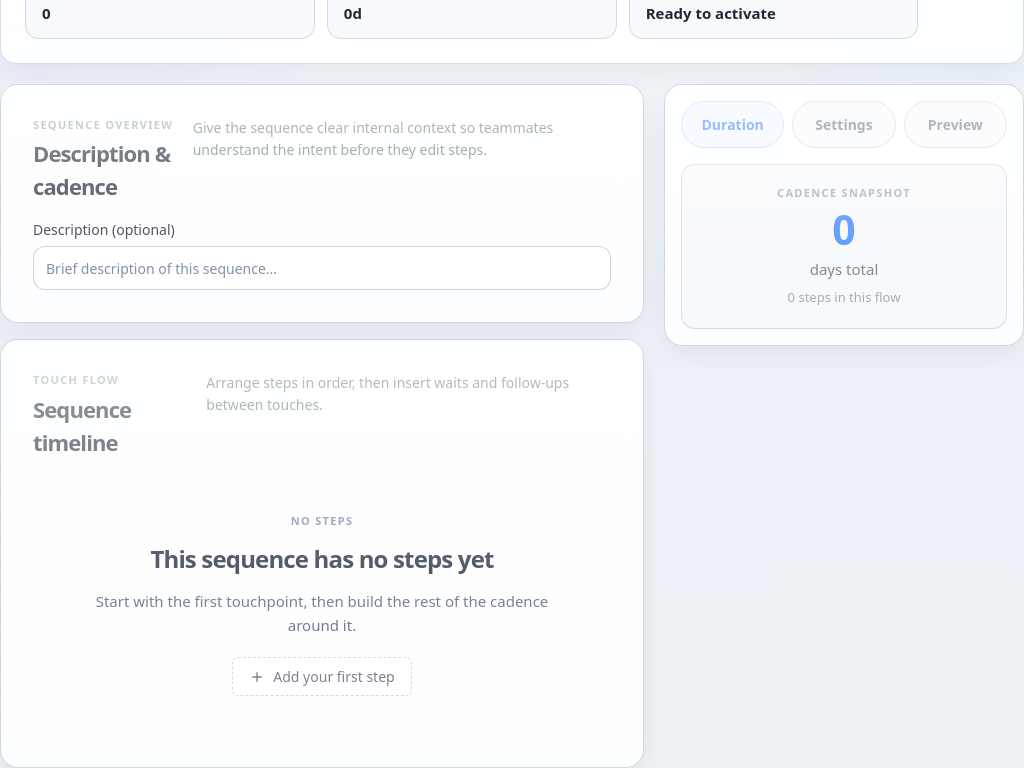
Test: SequenceBuilder › opens step type selector when add step clicked
The image size is (1024, 768).
(page scrolled)
# Click add step button
Click the button with test id "add-first-step-btn" at [322, 677], box [232,657,412,696]
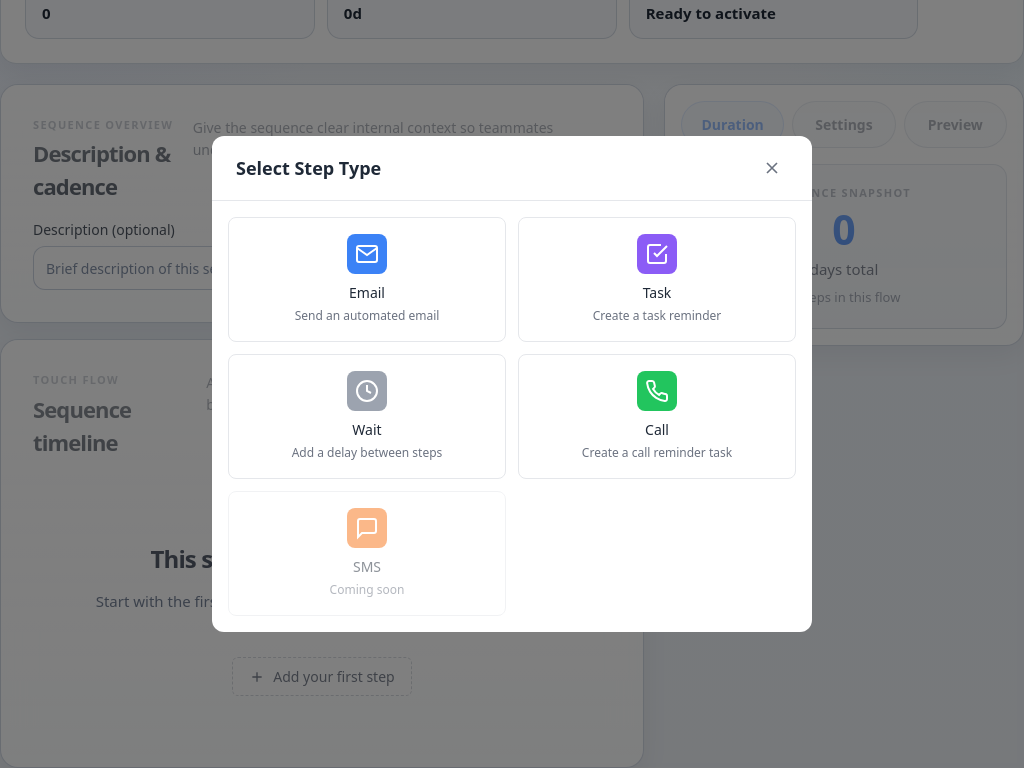
Expected: the element with test id "step-type-selector" is shown, [212,201,812,632]
Expected: the text "Email" is shown, [349,282,385,303]
Expected: the text "Task" is shown, [643,282,671,303]
